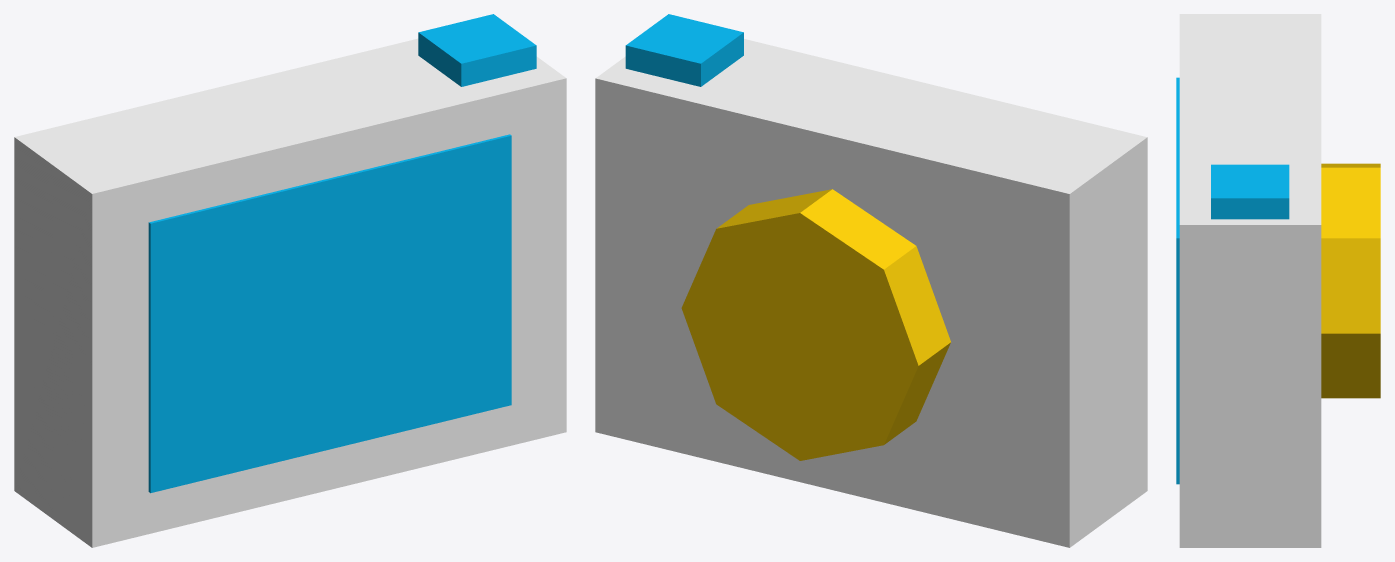
The model's file is camera.dae.
3 views of the same model, side by side, from view 1: azimuth 30°, elevation 25°; view 2: azimuth 150°, elevation 25°; view 3: azimuth 270°, elevation 25° (orthographic). The views are drawn at different scales.
Parts seen in each view (by area): view 1: Cube; view 2: Cube; view 3: Cube.
Boxes of the visible parts, x1,y1,x2,y2 form: Cube: [14, 14, 566, 547]; Cube: [595, 14, 1147, 547]; Cube: [1176, 14, 1380, 547].
Size of the model in its own units: 2 by 0.8187 by 1.52.
